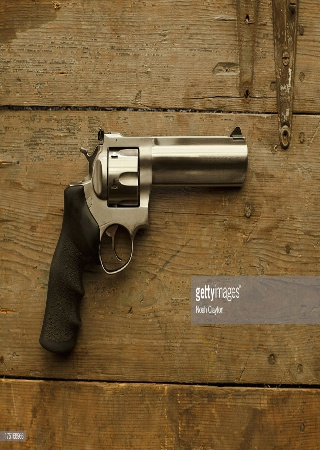handgun: (34, 126, 249, 357)
